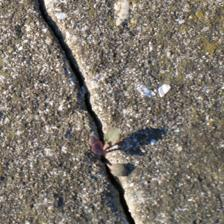Crack: (18, 1, 116, 221)
